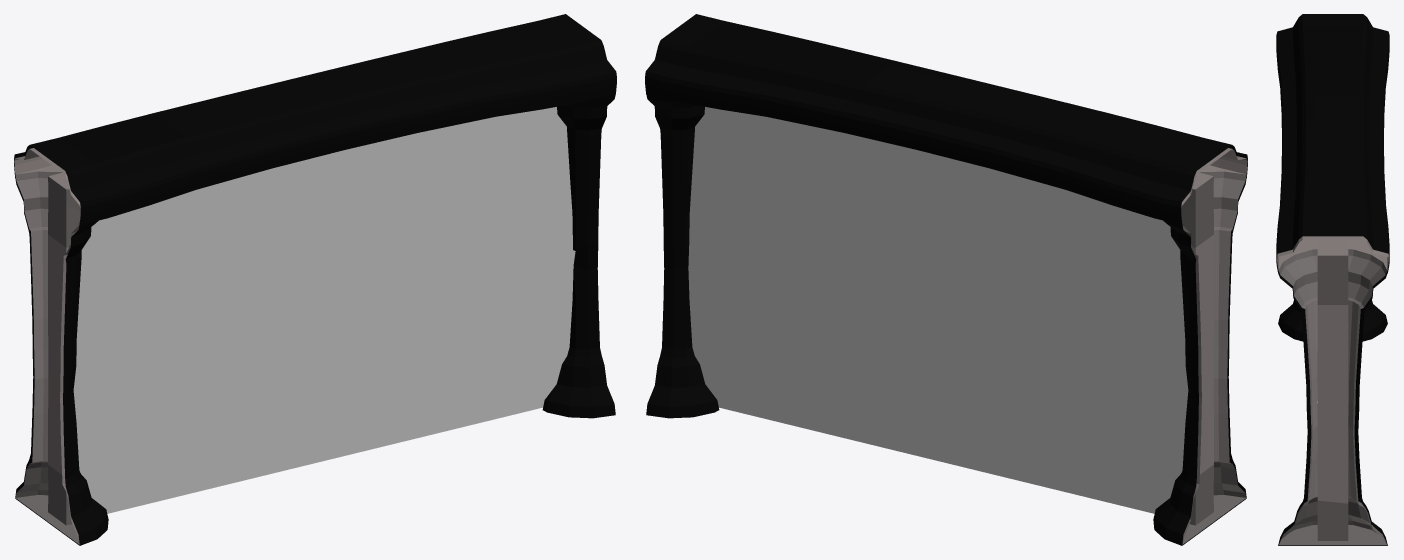
Rendered from wall_transparent.fbx.
3 renders of one model, left to right at view 1: azimuth 30°, elevation 25°; view 2: azimuth 150°, elevation 25°; view 3: azimuth 270°, elevation 25°, orthographic. The views are drawn at different scales.
Parts seen in each view (by area): view 1: wall_transparent_glass, wall_transparent_outline, wall_transparent; view 2: wall_transparent_glass, wall_transparent_outline, wall_transparent; view 3: wall_transparent_outline, wall_transparent.
Part boxes in pixels (left/top/right/bottom): wall_transparent_glass: left=73, top=107, right=575, bottom=513; wall_transparent_outline: left=14, top=14, right=616, bottom=545; wall_transparent: left=14, top=148, right=80, bottom=544; wall_transparent_glass: left=688, top=107, right=1188, bottom=513; wall_transparent_outline: left=645, top=14, right=1247, bottom=545; wall_transparent: left=1181, top=148, right=1247, bottom=544; wall_transparent_outline: left=1276, top=14, right=1389, bottom=545; wall_transparent: left=1277, top=236, right=1388, bottom=545.
Size of the model in its own units: 850 by 560 by 183.
